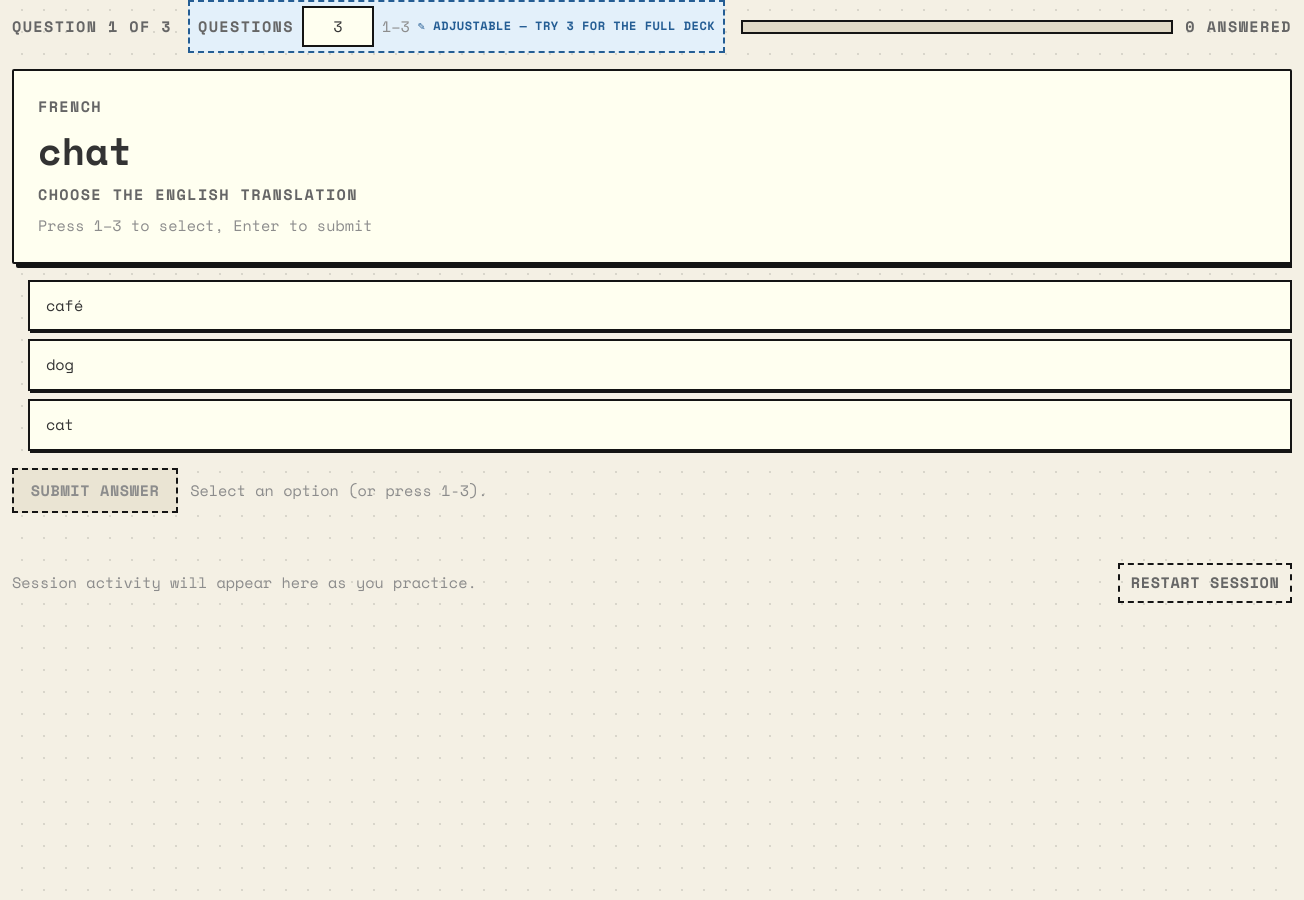
Scenario: QuizMode › a correct answer is scored once and cannot be submitted twice
The image size is (1304, 900).
Click the button "cat" at (60, 424), box [28, 399, 1292, 451]
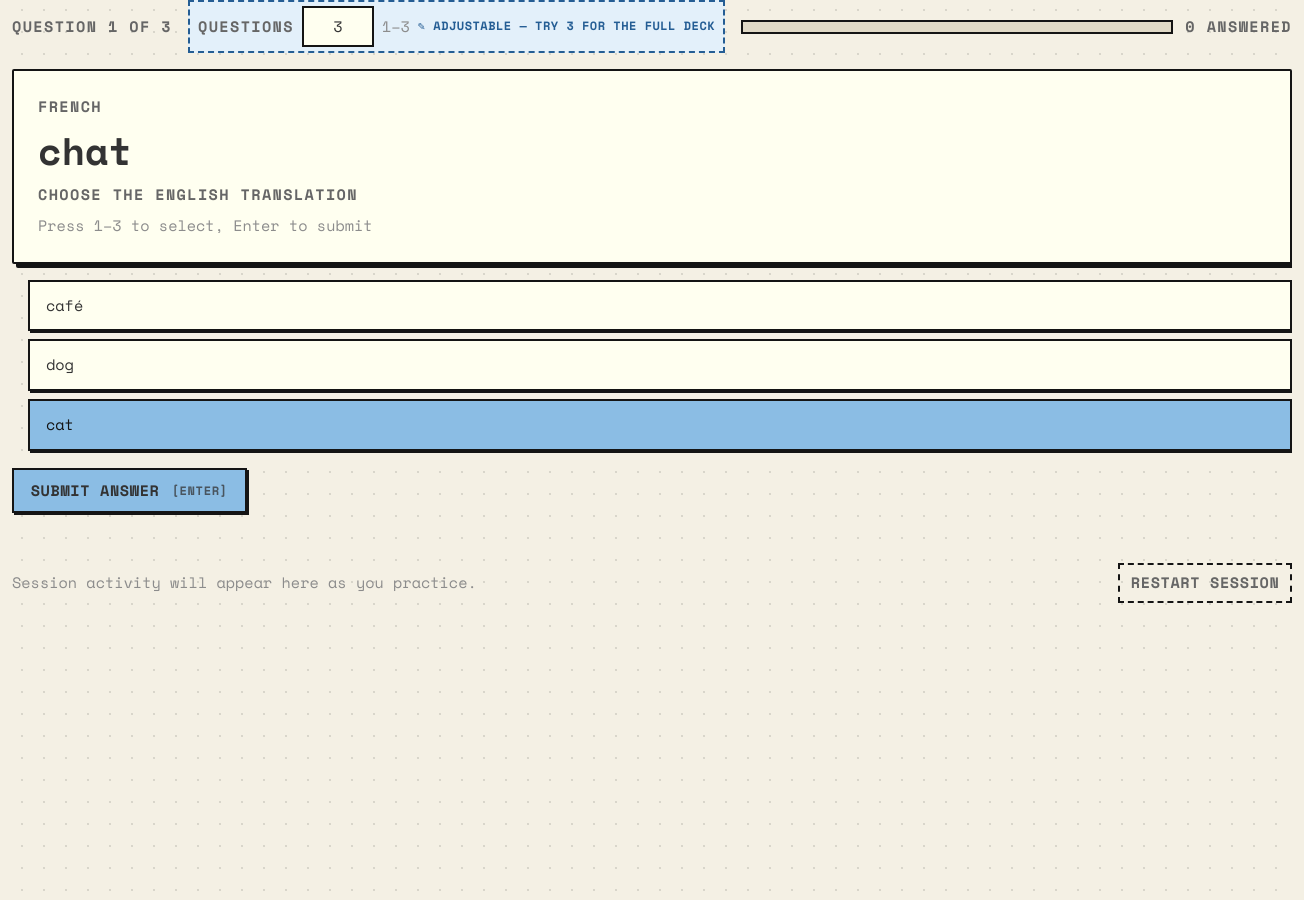
Click the button "Submit answer [Enter]" at (129, 491), box [12, 468, 246, 513]
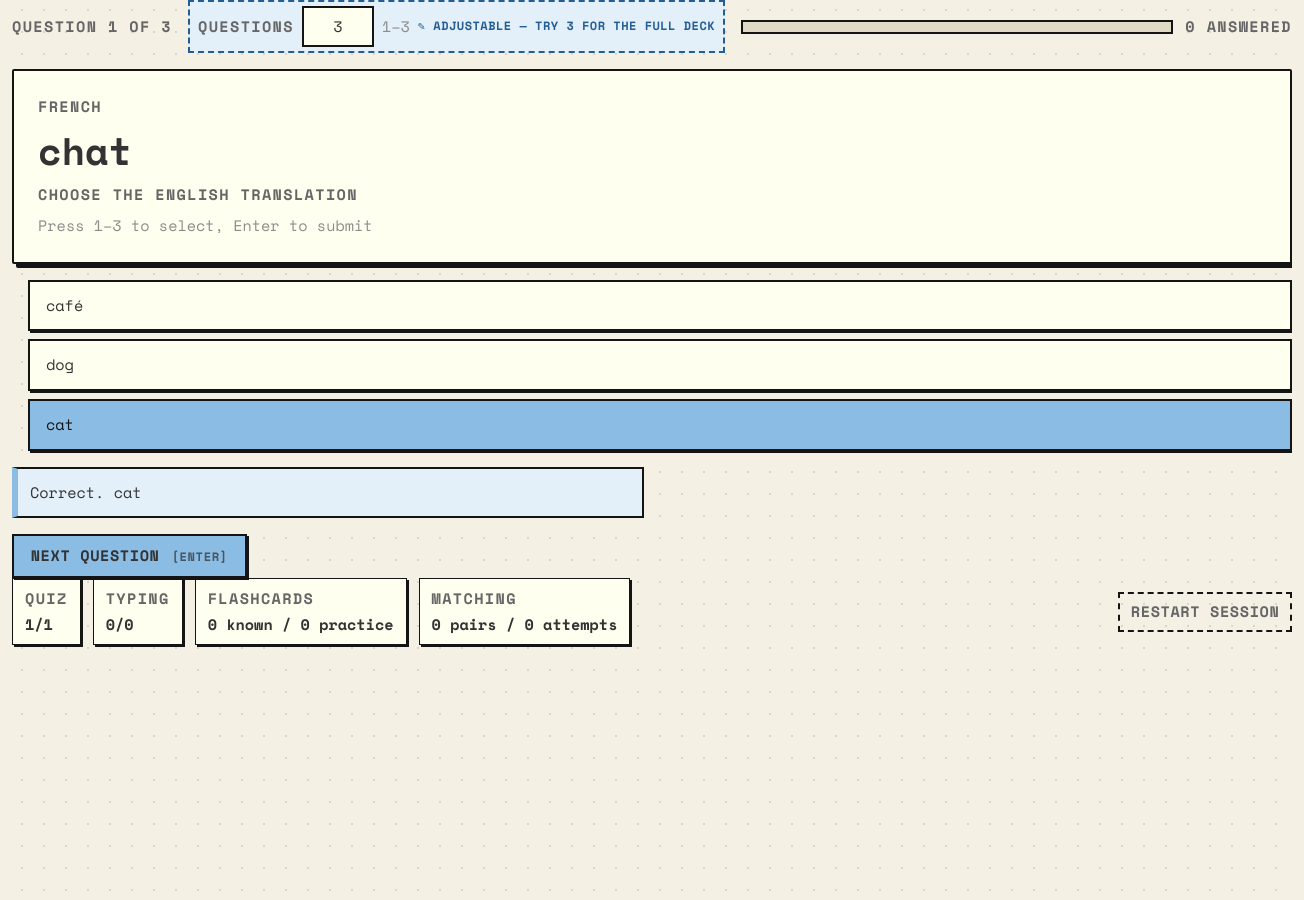
Expected: the element named "Session statistics" shows "1/1", [25, 613, 53, 635]
Expected: the text "Correct. cat" is shown, [12, 467, 644, 518]
Expected: the button "Submit answer" is gone
